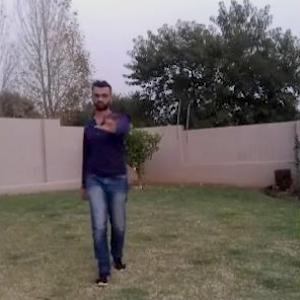follow_hand: (95, 104, 122, 134)
